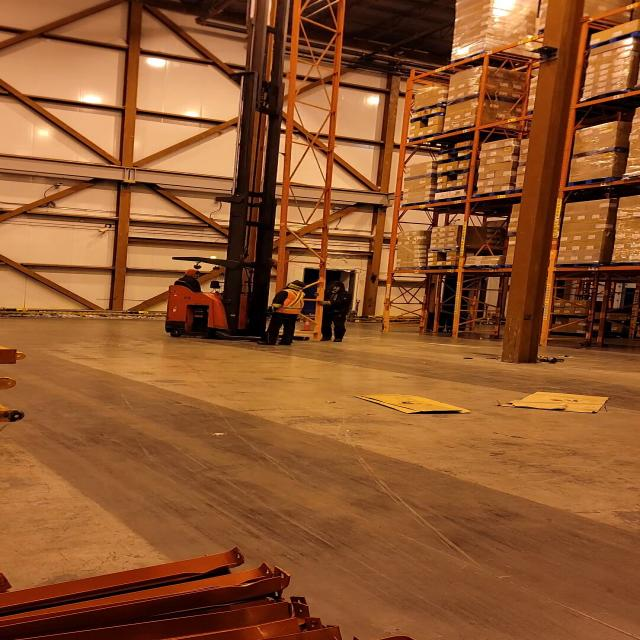forklift: (163, 194, 314, 348)
human: (260, 276, 312, 344), (314, 279, 360, 342), (167, 266, 208, 292)
objectofinterest: (273, 12, 338, 343), (341, 391, 484, 415), (501, 389, 614, 416)
